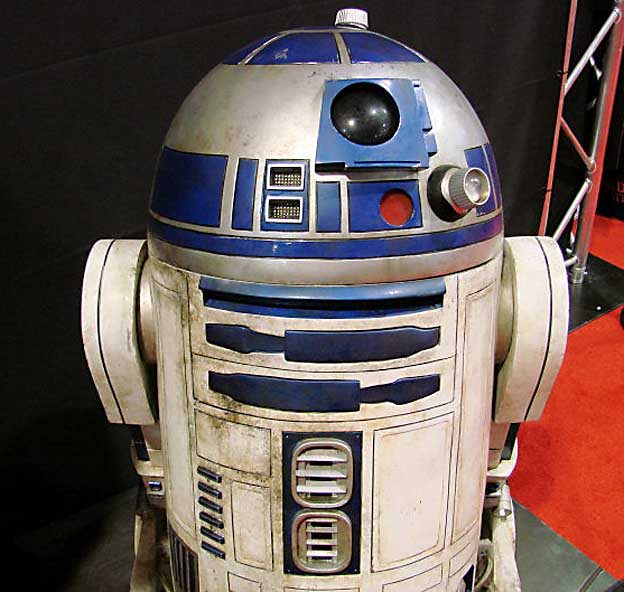r2d2: (81, 8, 570, 592)
